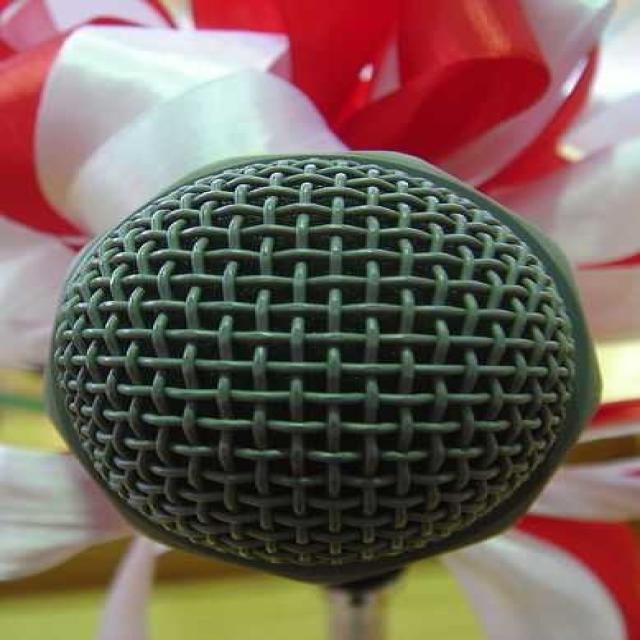microphone: (51, 156, 585, 578)
